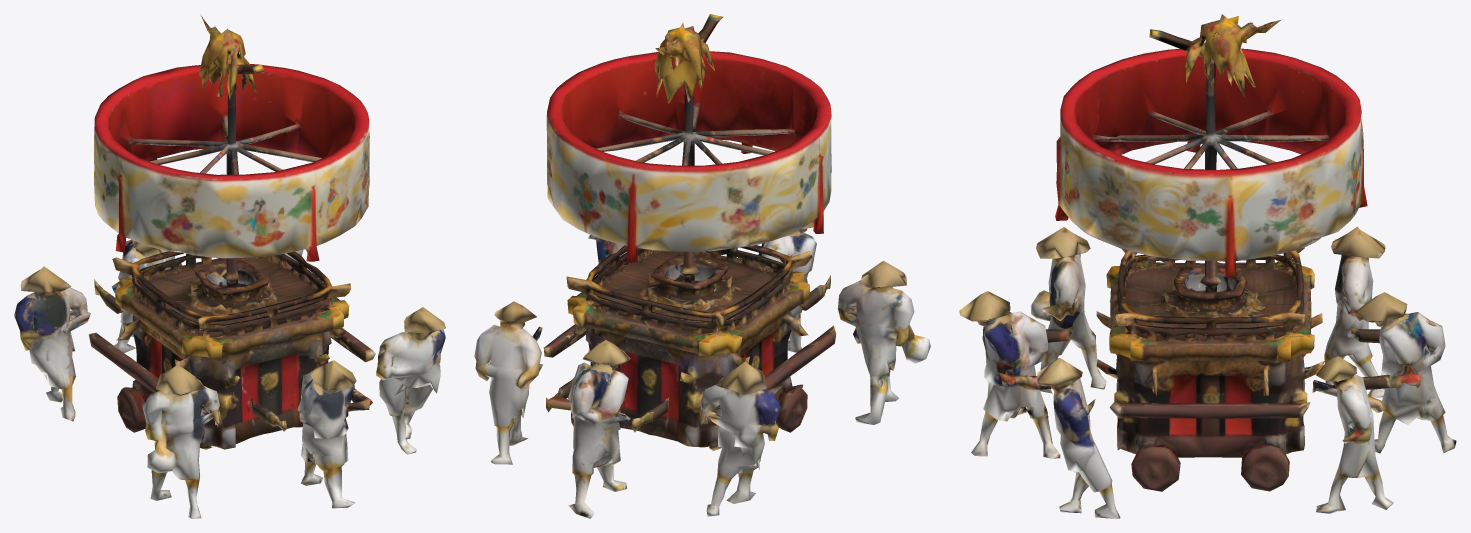
File: 綾傘鉾.glb
3 views of the same model, side by side, from view 1: azimuth 30°, elevation 25°; view 2: azimuth 150°, elevation 25°; view 3: azimuth 270°, elevation 25° (orthographic). The views are drawn at different scales.
Parts seen in each view (by area): view 1: Mesh1.0; view 2: Mesh1.0; view 3: Mesh1.0.
Boxes of the visible parts, bbox=[...] form: Mesh1.0: bbox=[14, 14, 445, 518]; Mesh1.0: bbox=[474, 14, 930, 518]; Mesh1.0: bbox=[959, 14, 1456, 518].
Bounding box in the file's own units: 3.93 × 4.83 × 4.98.
Materials: 1 (1 with a texture image).
